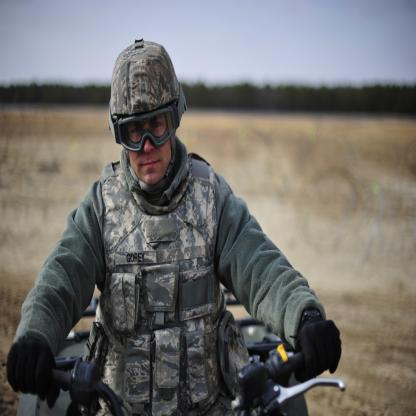Helmet: (106, 43, 185, 191)
